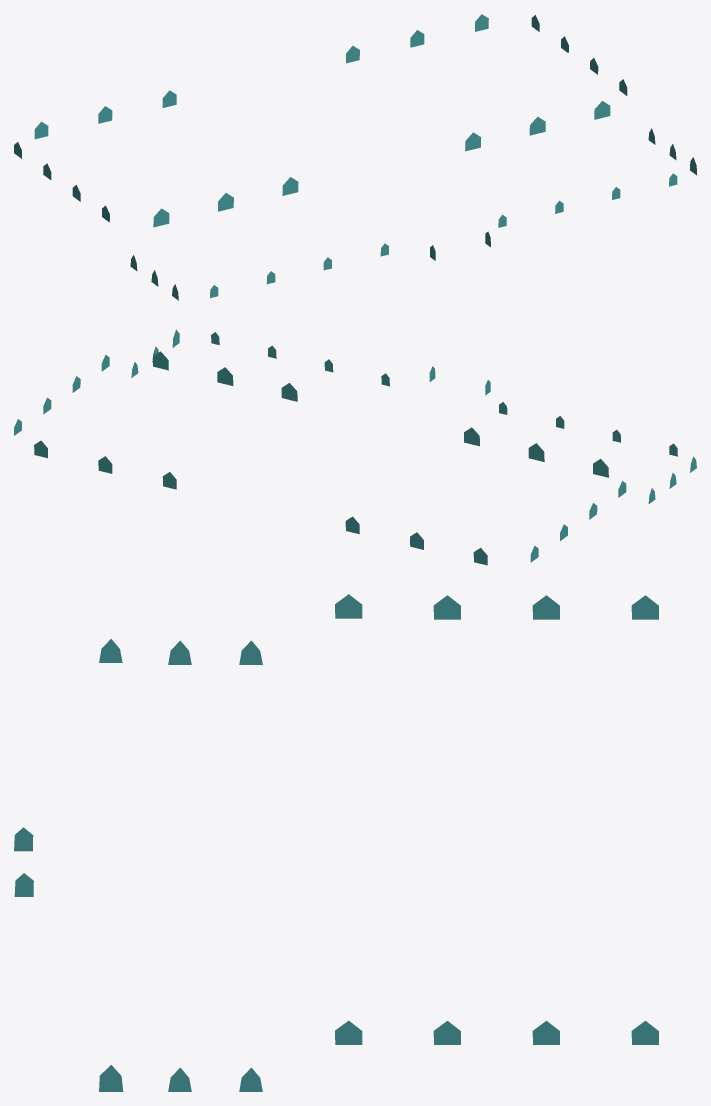
File: Academy_Labari_window.fbx
3 views of the same model, one above another, from view 1: azimuth 30°, elevation 25°; view 2: azimuth 150°, elevation 25°; view 3: azimuth 270°, elevation 25° (orthographic). The views are drawn at different scales.
Size of the model in its own units: 5583 by 436 by 3772.
